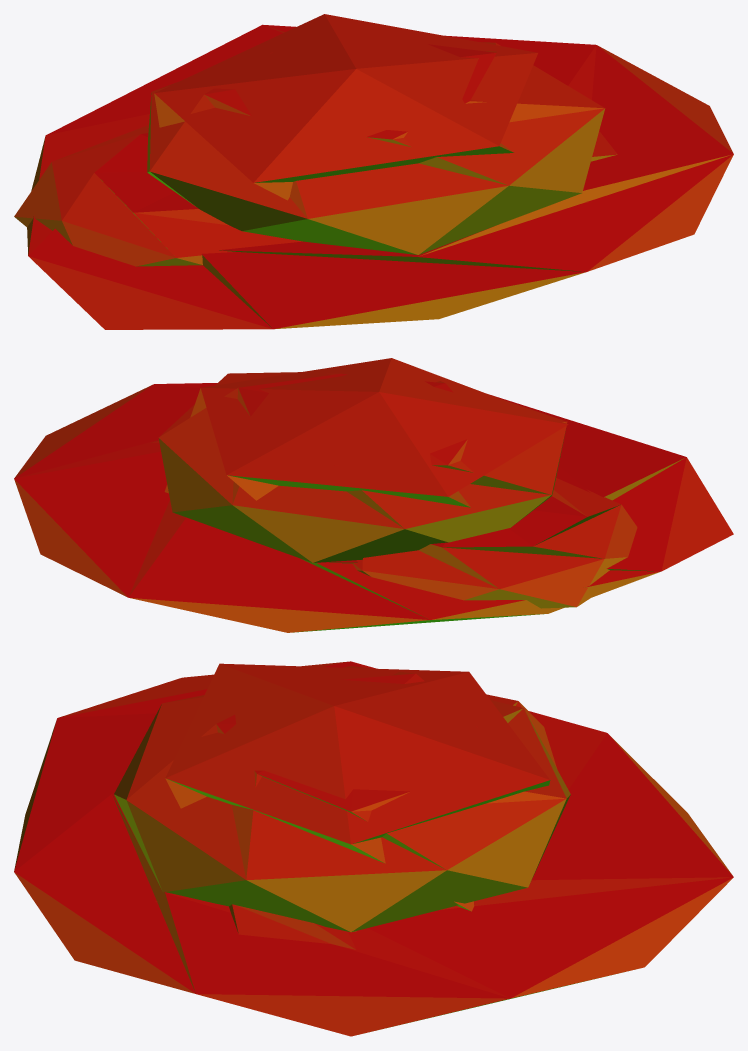
Rendered from snowbank.glb.
The picture shows the model from 3 angles, top to bottom: view 1: azimuth 30°, elevation 25°; view 2: azimuth 150°, elevation 25°; view 3: azimuth 270°, elevation 25°; orthographic projection. The views are drawn at different scales.
Parts seen in each view (by area): view 1: v1, v2, v0, v3; view 2: v1, v2, v0, v3; view 3: v1, v2, v0, v3.
Boxes of the visible parts, x1=… form: v1: x1=27, y1=24, x2=733, y2=329; v2: x1=154, y1=14, x2=537, y2=200; v0: x1=147, y1=42, x2=605, y2=254; v3: x1=14, y1=125, x2=617, y2=266; v1: x1=14, y1=383, x2=733, y2=632; v2: x1=164, y1=358, x2=568, y2=507; v0: x1=158, y1=372, x2=567, y2=562; v3: x1=150, y1=440, x2=637, y2=608; v1: x1=14, y1=661, x2=733, y2=1036; v2: x1=165, y1=663, x2=550, y2=911; v0: x1=114, y1=666, x2=570, y2=932; v3: x1=155, y1=694, x2=556, y2=949.
Bounding box in the file's own units: 51.42 × 10.78 × 43.61.
